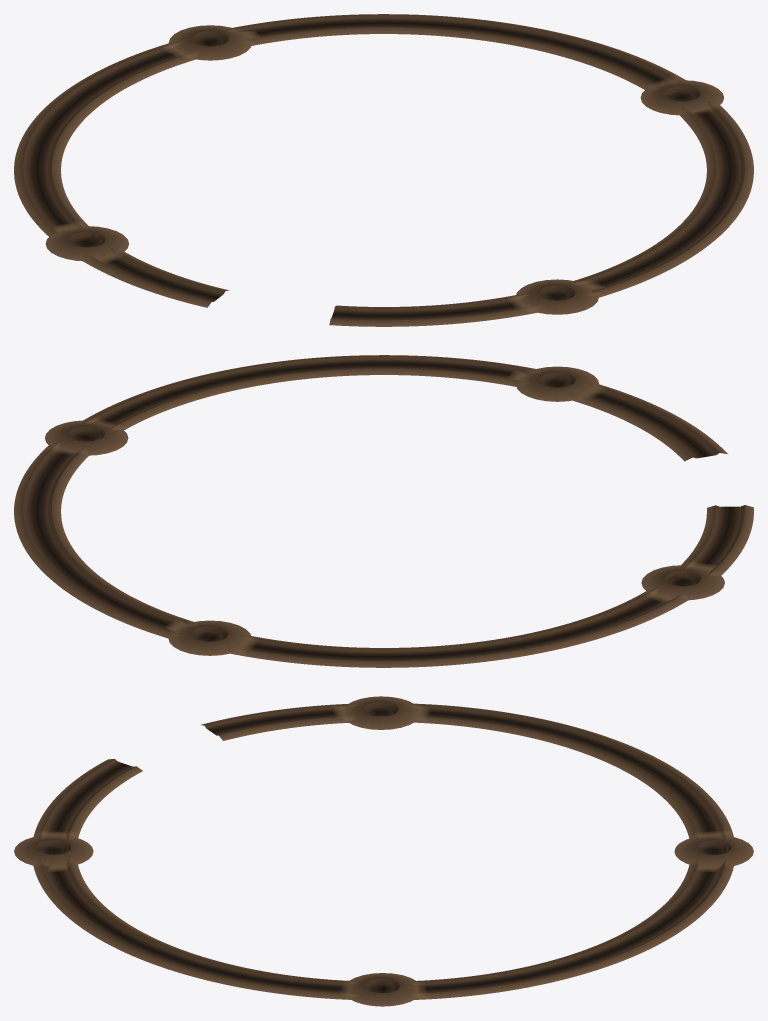
File: Hut_Outline.glb
The picture shows the model from 3 angles, top to bottom: view 1: azimuth 30°, elevation 25°; view 2: azimuth 150°, elevation 25°; view 3: azimuth 270°, elevation 25°; orthographic projection. The views are drawn at different scales.
Parts seen in each view (by area): view 1: Hut_Outline; view 2: Hut_Outline; view 3: Hut_Outline.
Part boxes in pixels (bbox=[...]): Hut_Outline: bbox=[14, 14, 753, 326]; Hut_Outline: bbox=[14, 355, 753, 667]; Hut_Outline: bbox=[14, 696, 753, 1006].
Size of the model in its own units: 5.9 by 0.038 by 5.95.
